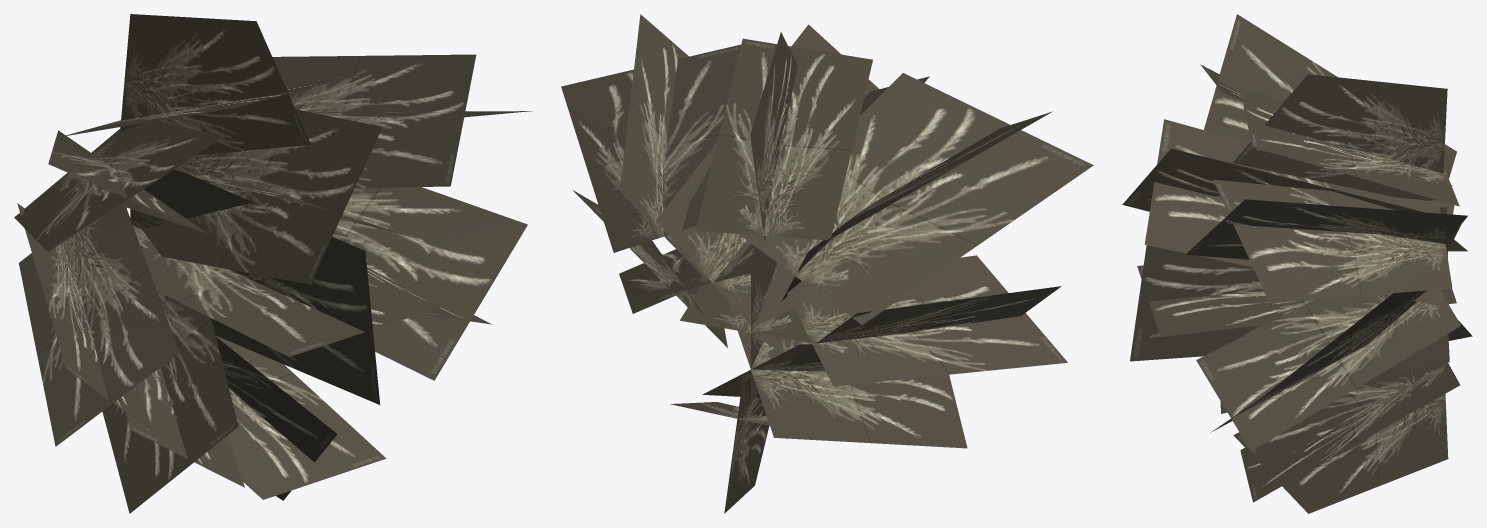
File: tdr_h_fern_b.obj
3 views of the same model, side by side, from view 1: azimuth 30°, elevation 25°; view 2: azimuth 150°, elevation 25°; view 3: azimuth 270°, elevation 25° (orthographic). The views are drawn at different scales.
Parts seen in each view (by area): view 1: tdr_h_fern_b.001; view 2: tdr_h_fern_b.001; view 3: tdr_h_fern_b.001.
Boxes of the visible parts, bbox=[...] form: tdr_h_fern_b.001: bbox=[14, 14, 531, 513]; tdr_h_fern_b.001: bbox=[561, 14, 1093, 513]; tdr_h_fern_b.001: bbox=[1122, 14, 1472, 513].
Bounding box in the file's own units: 1013 × 898 × 667.
1 material, 1 textured.
